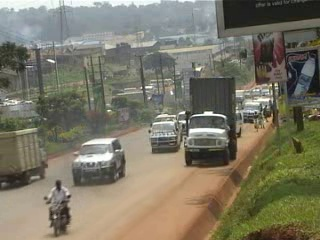Car: (69, 133, 129, 187)
Motorcycle: (41, 180, 76, 238)
